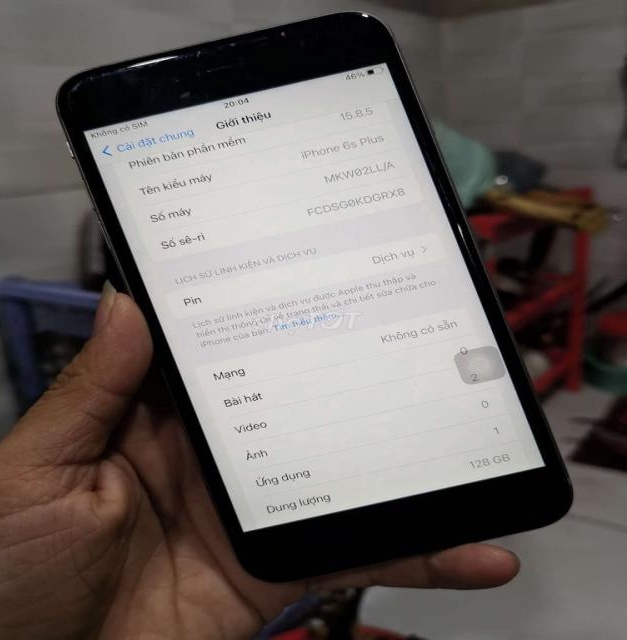scratch: (46, 25, 405, 116)
